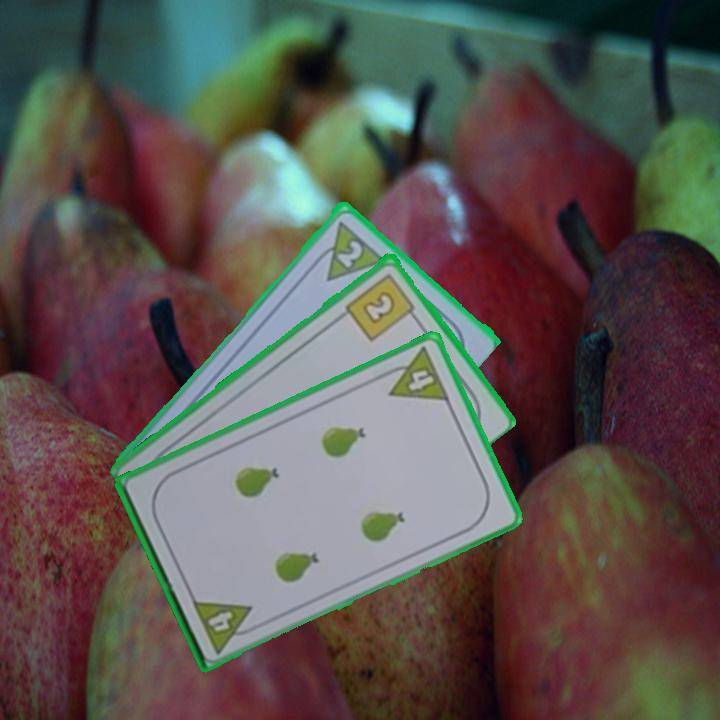2b: (342, 269, 421, 344)
2p: (308, 216, 387, 283)
4p: (377, 343, 453, 404), (188, 595, 262, 656)
